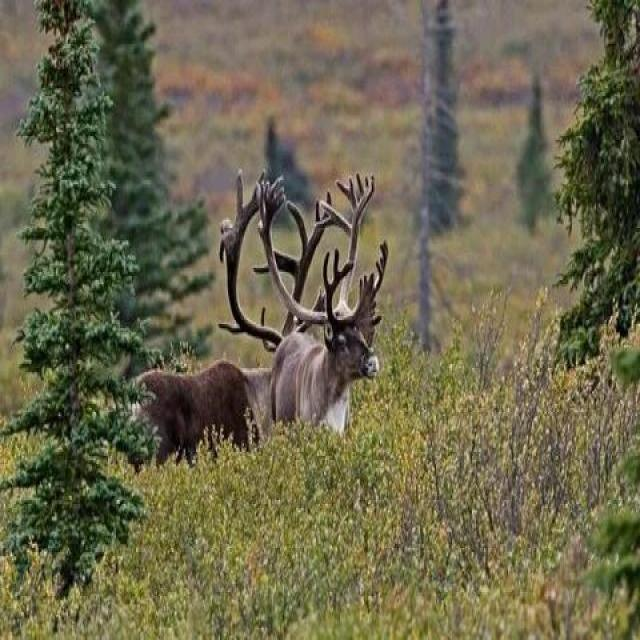deer: (250, 239, 406, 556)
